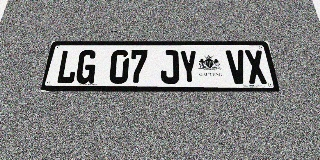0: (109, 50, 130, 84)
7: (128, 50, 148, 84)
G: (75, 50, 98, 84)
J: (161, 50, 179, 84)
L: (55, 50, 80, 84)
V: (225, 50, 249, 84)
X: (244, 50, 268, 84)
Y: (179, 50, 199, 84)
